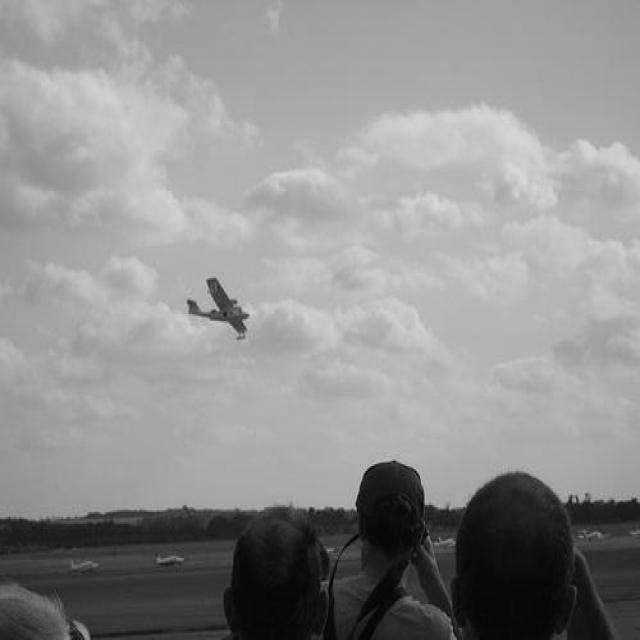aeroplane: (186, 276, 250, 340), (150, 548, 186, 570), (68, 555, 100, 577)
